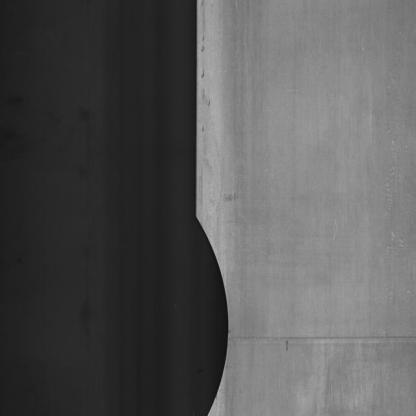crescent_gap: (176, 205, 236, 414)
welding_line: (210, 324, 415, 360)
